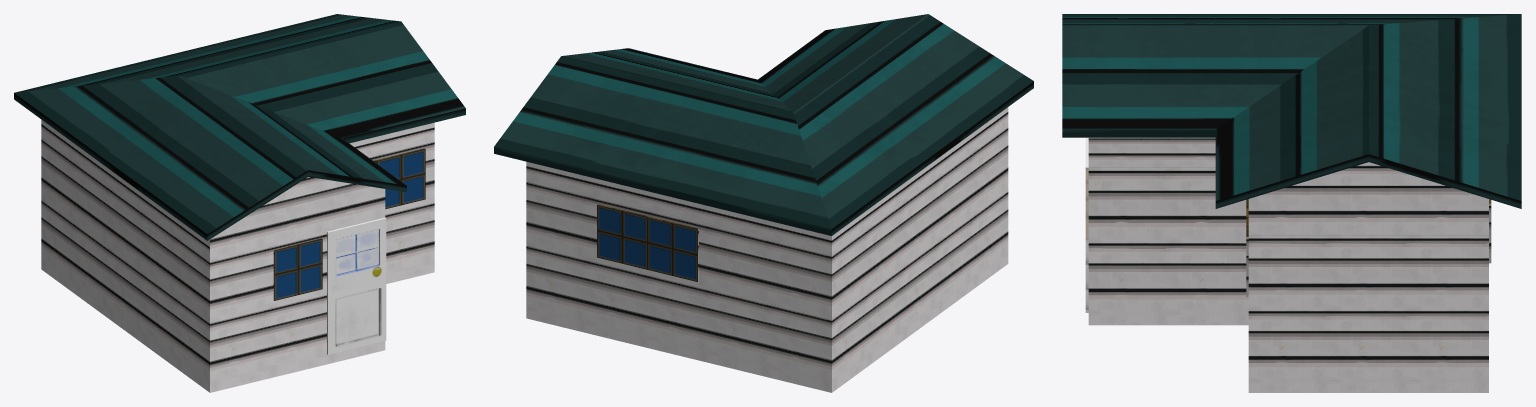
Rendered from Houses_PierHouse3.fbx.
3 renders of one model, left to right at view 1: azimuth 30°, elevation 25°; view 2: azimuth 150°, elevation 25°; view 3: azimuth 270°, elevation 25°, orthographic. The views are drawn at different scales.
Parts seen in each view (by area): view 1: PierHouse3; view 2: PierHouse3; view 3: PierHouse3.
Boxes of the visible parts, x1,y1,x2,y2 form: PierHouse3: [14, 14, 465, 392]; PierHouse3: [494, 14, 1033, 392]; PierHouse3: [1062, 14, 1521, 392].
Bounding box in the file's own units: 512 × 318 × 531.
1 material, 1 textured.
